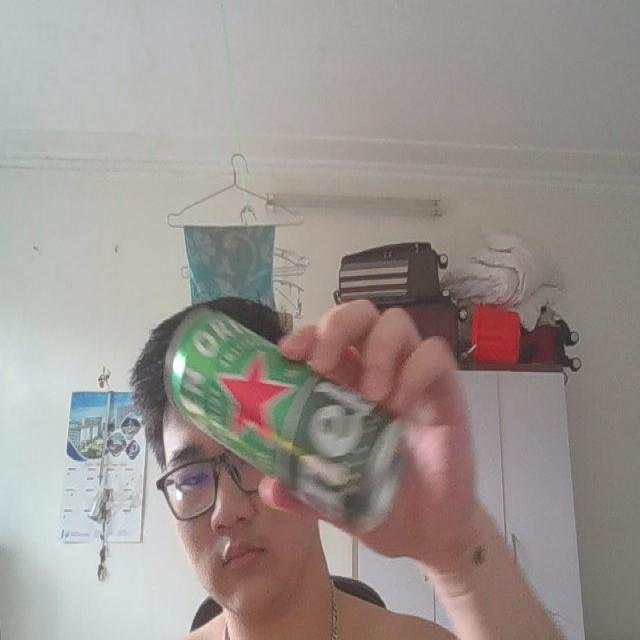Heineken: (162, 306, 405, 534)
